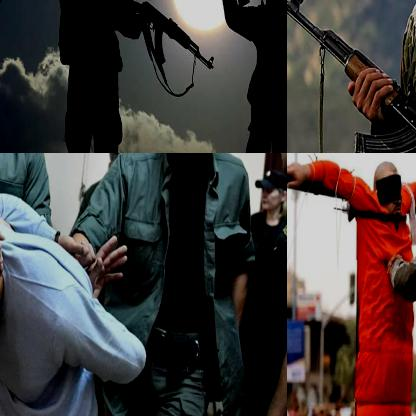rifle: (287, 0, 415, 152), (113, 0, 218, 82)
